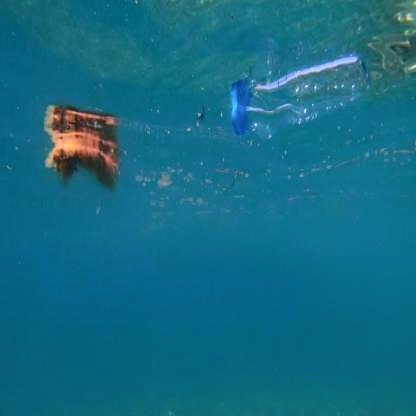misc: (43, 105, 137, 201)
pbottle: (221, 48, 375, 140)
